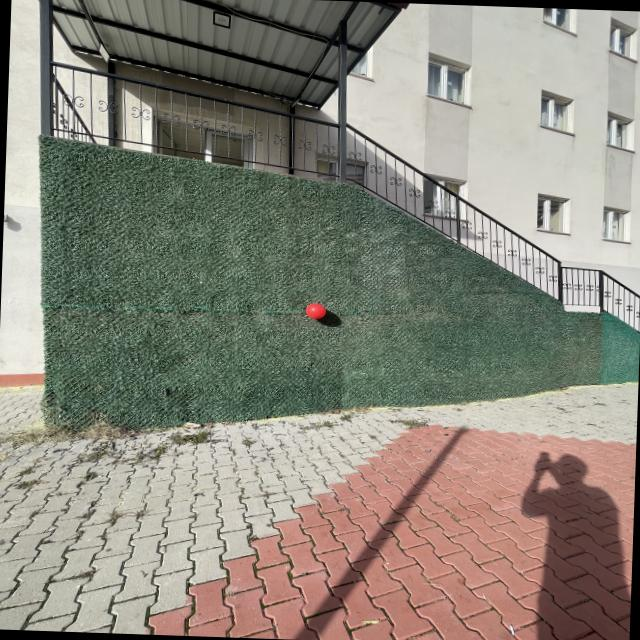balloon: (305, 303, 325, 319)
